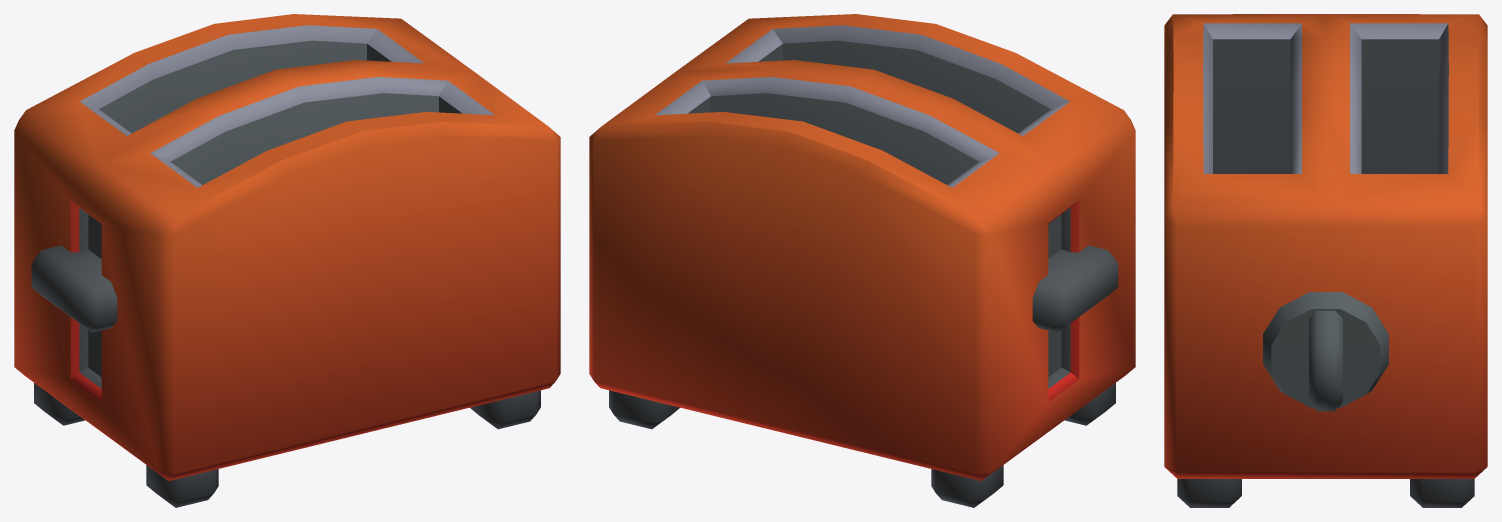
Rendered from tostmakinesi.glb.
3 renders of one model, left to right at view 1: azimuth 30°, elevation 25°; view 2: azimuth 150°, elevation 25°; view 3: azimuth 270°, elevation 25°, orthographic. The views are drawn at different scales.
Parts seen in each view (by area): view 1: toaster; view 2: toaster; view 3: toaster.
Part boxes in pixels (x1,y1,x2,y2): toaster: (14,14,560,507); toaster: (589,14,1135,507); toaster: (1164,14,1487,507).
Bounding box in the file's own units: 0.9161 × 0.6 × 0.5.
Materials: 1 (1 with a texture image).
